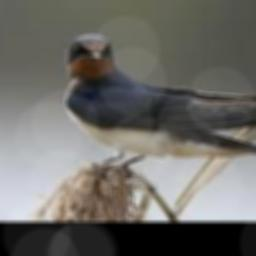Swallow: (63, 34, 256, 166)
